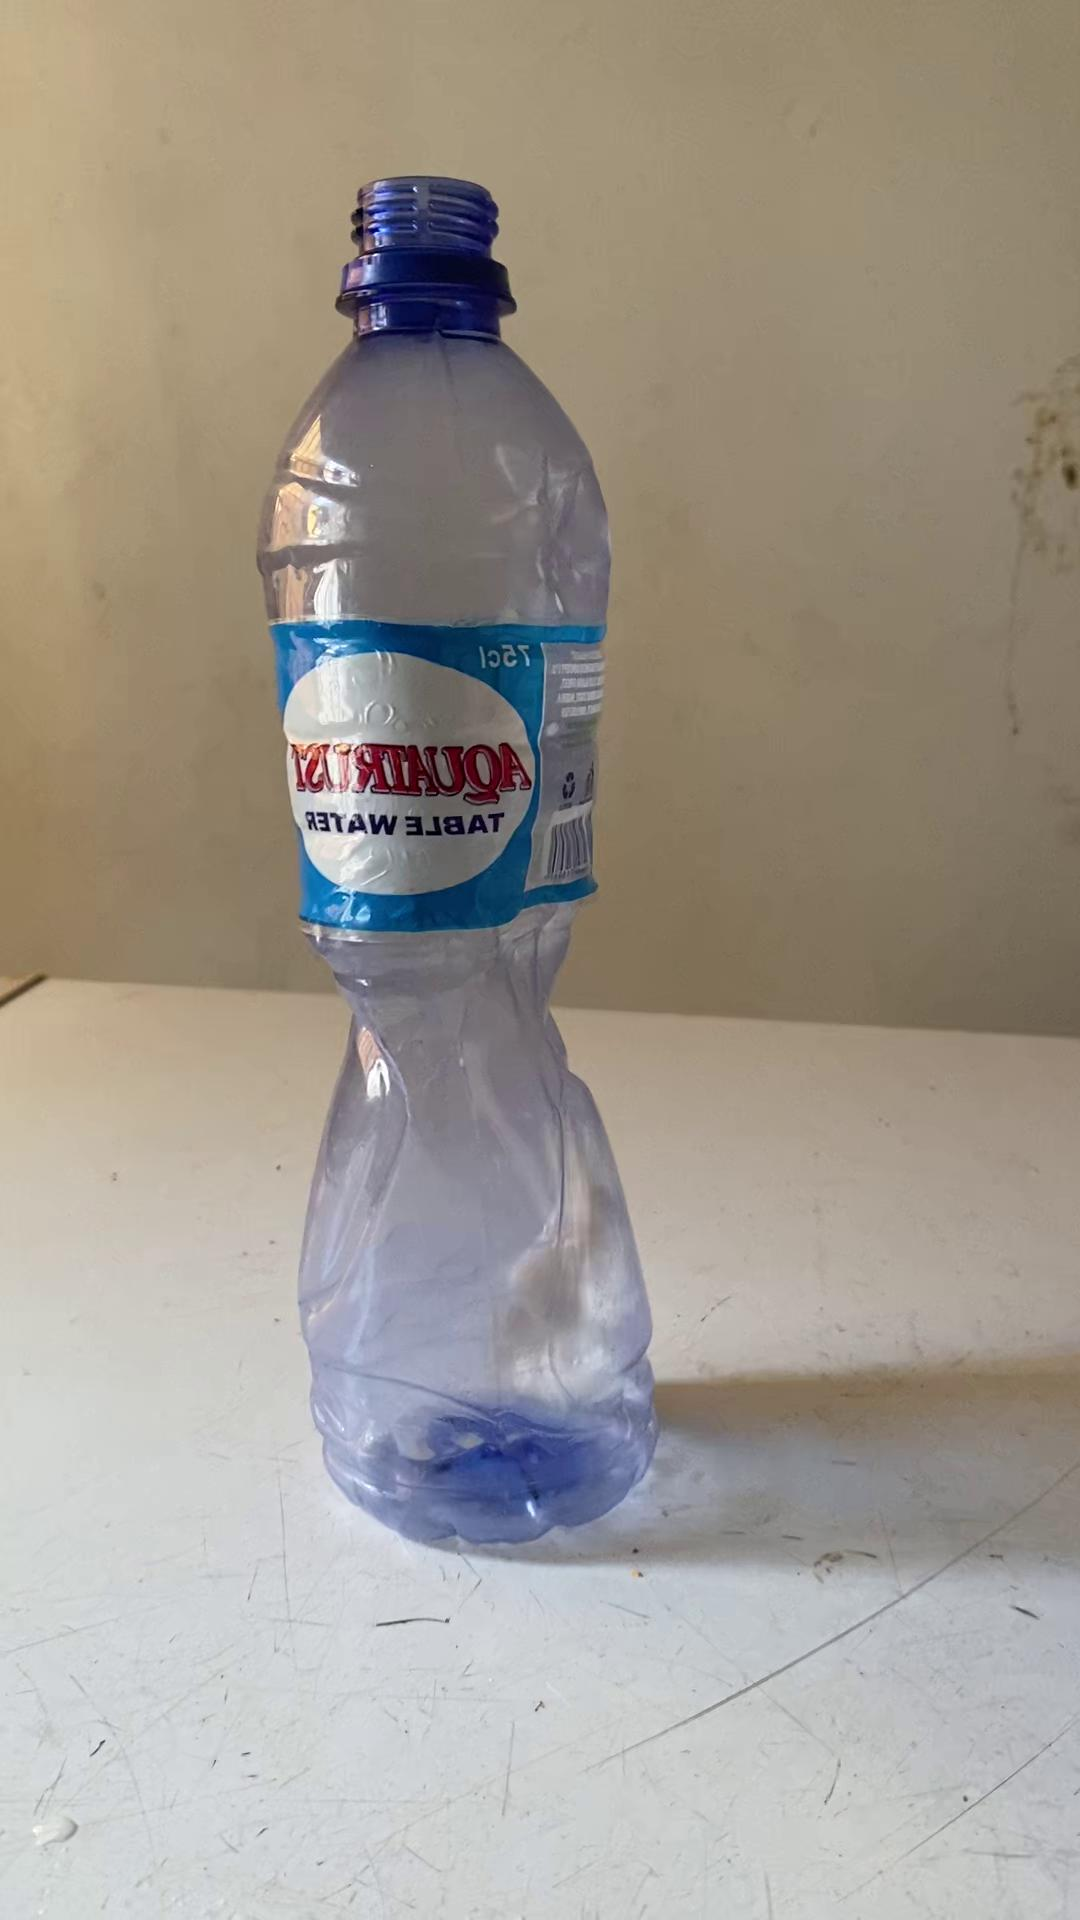crumbled: (245, 169, 669, 1553)
label: (280, 624, 609, 931)
no-cap: (344, 171, 506, 301)
